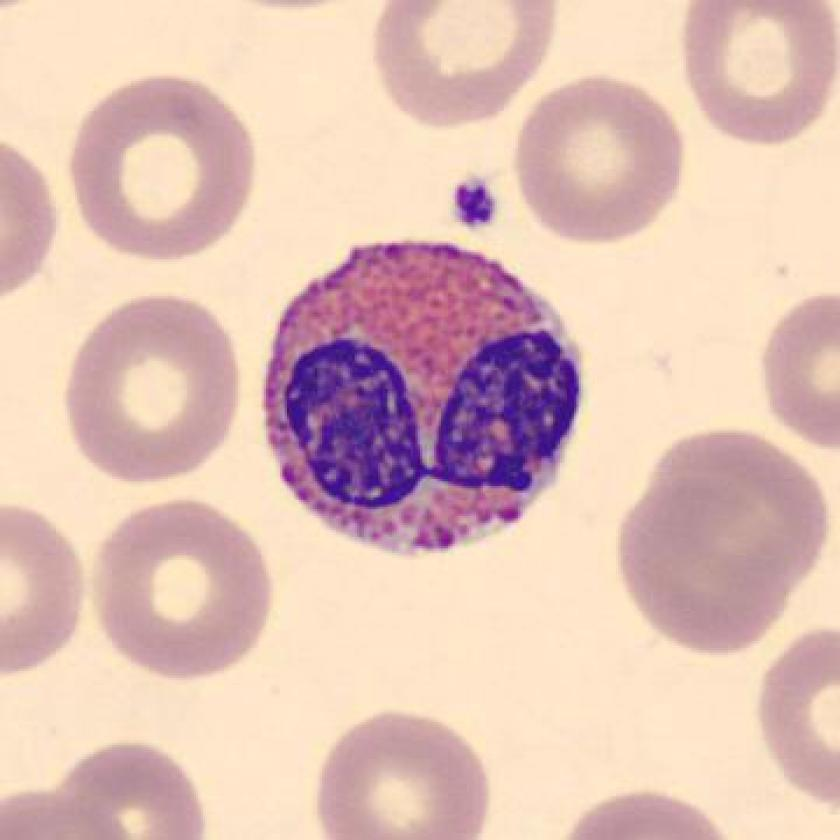eosinophil: (246, 225, 598, 575)
